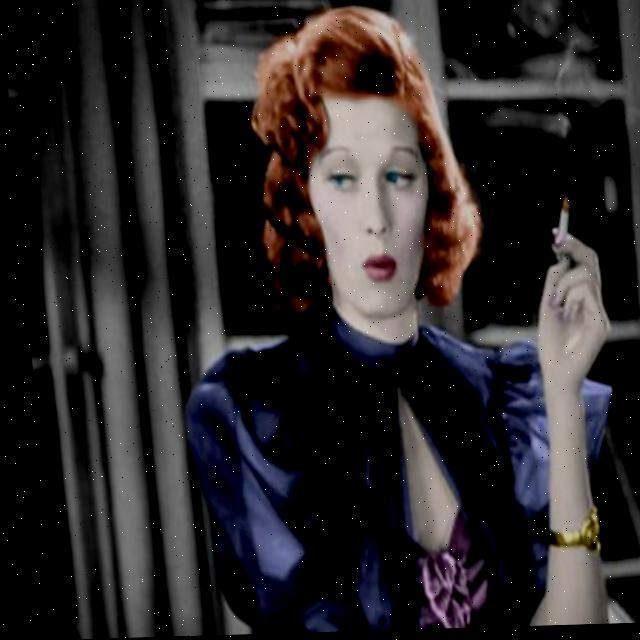cigarette: (549, 197, 570, 246)
